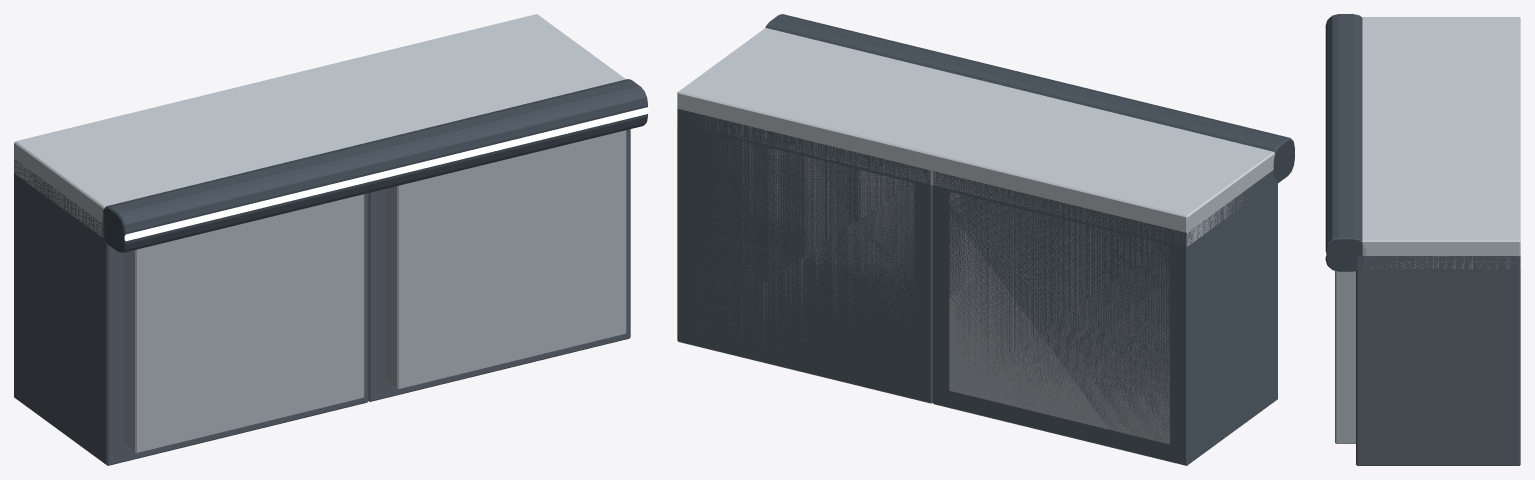
Rendered from Terrain_TopRun2.gltf.
3 views of the same model, side by side, from view 1: azimuth 30°, elevation 25°; view 2: azimuth 150°, elevation 25°; view 3: azimuth 270°, elevation 25° (orthographic). The views are drawn at different scales.
Visible parts, largest first — view 1: Terrain_TopRun2_baked; view 2: Terrain_TopRun2_baked; view 3: Terrain_TopRun2_baked.
Part boxes in pixels (x1,y1,x2,y2): Terrain_TopRun2_baked: (14, 14, 648, 465); Terrain_TopRun2_baked: (677, 14, 1295, 465); Terrain_TopRun2_baked: (1324, 14, 1520, 465).
Size of the model in its own units: 2 by 0.9495 by 0.74.
